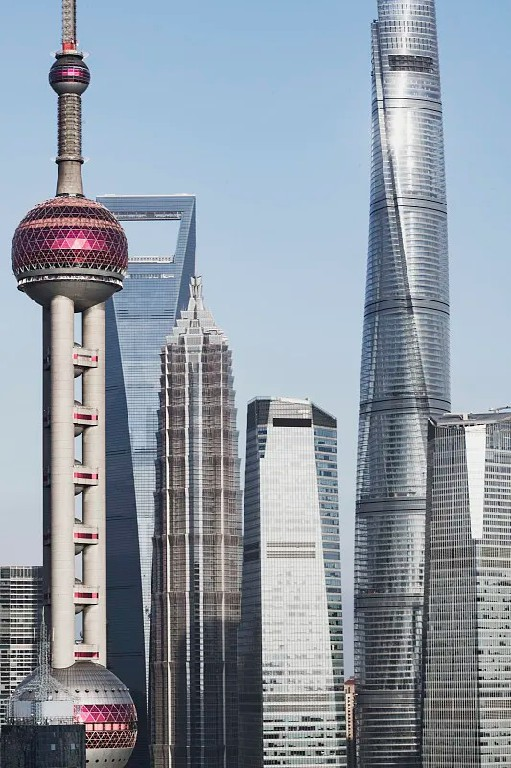Oriental: (11, 1, 139, 768)
